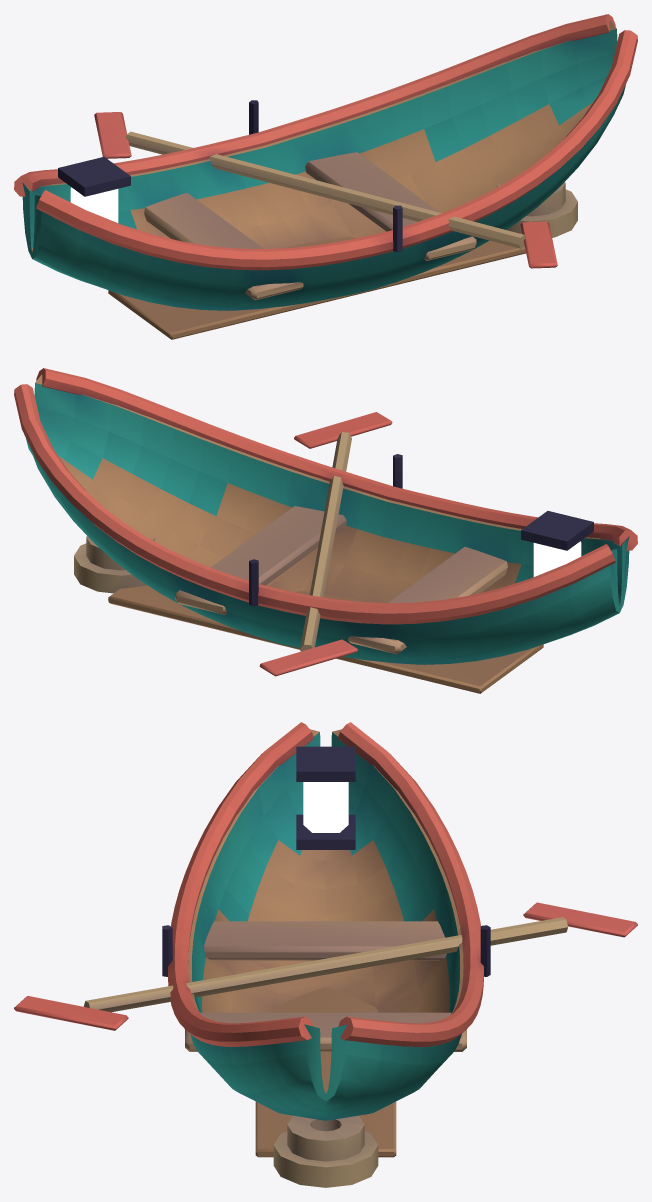
File: common_town_rowboat.glb
3 renders of one model, top to bottom at view 1: azimuth 30°, elevation 25°; view 2: azimuth 150°, elevation 25°; view 3: azimuth 270°, elevation 25°, orthographic. The views are drawn at different scales.
Parts seen in each view (by area): view 1: common_town_rowboat; view 2: common_town_rowboat; view 3: common_town_rowboat.
Boxes of the visible parts, x1,y1,x2,y2 form: common_town_rowboat: (14, 14, 637, 339); common_town_rowboat: (14, 368, 637, 693); common_town_rowboat: (14, 722, 637, 1187).
Size of the model in its own units: 3.38 by 1.01 by 2.74.
